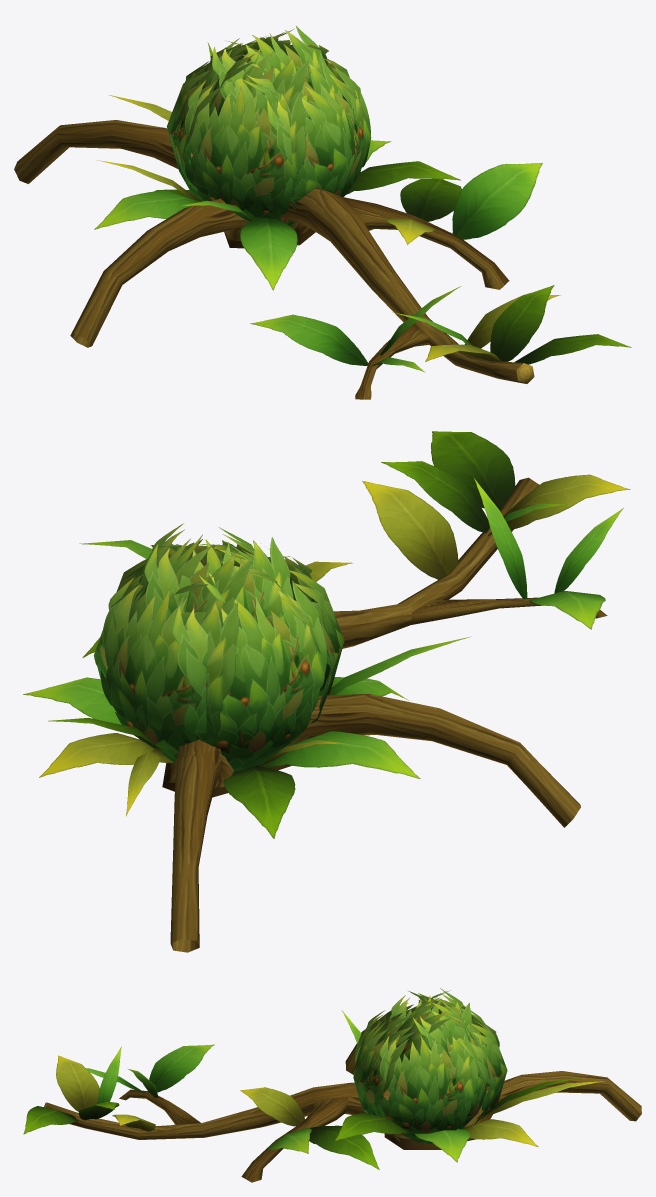
File: glass_G_001.fbx
The picture shows the model from 3 angles, top to bottom: view 1: azimuth 30°, elevation 25°; view 2: azimuth 150°, elevation 25°; view 3: azimuth 270°, elevation 25°; orthographic projection. The views are drawn at different scales.
Visible parts, largest first — view 1: polySurface78; view 2: polySurface78; view 3: polySurface78.
Boxes of the visible parts, bbox=[...] form: polySurface78: bbox=[14, 26, 631, 399]; polySurface78: bbox=[23, 431, 630, 952]; polySurface78: bbox=[23, 988, 641, 1182].
Size of the model in its own units: 2152 by 1035 by 3492.
